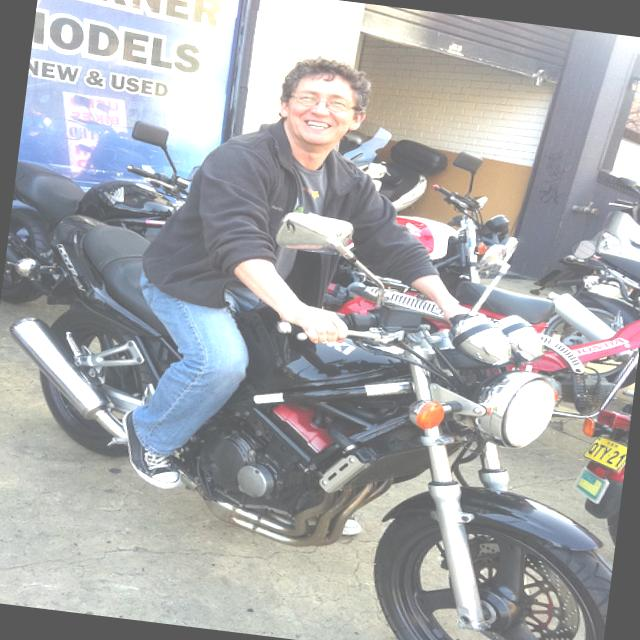Vehicle: (0, 174, 640, 640), (0, 105, 198, 322), (566, 335, 640, 542), (390, 180, 522, 294), (596, 174, 640, 309)
